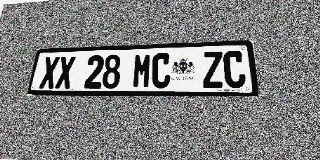2: (84, 55, 105, 88)
8: (101, 54, 122, 88)
C: (223, 50, 246, 88), (151, 53, 171, 88)
M: (132, 53, 152, 88)
X: (55, 56, 76, 88), (39, 57, 60, 88)
Z: (202, 51, 224, 88)
